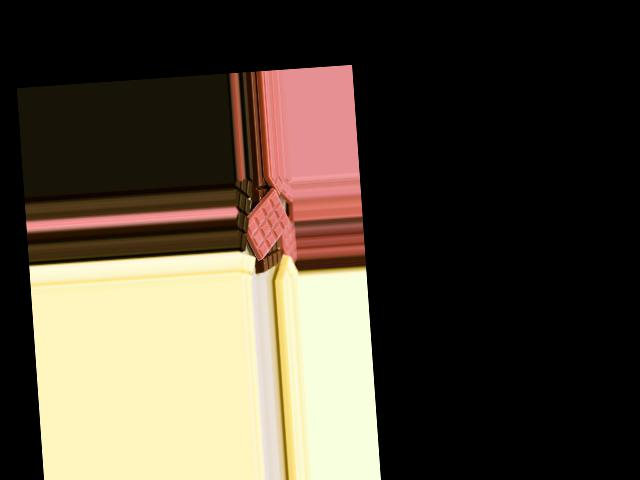chocolate: (233, 186, 294, 260)
